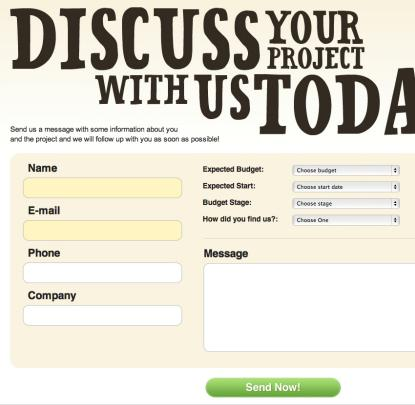button: (205, 377, 341, 397)
field: (22, 175, 182, 198), (23, 218, 183, 241), (22, 261, 182, 284), (23, 303, 183, 325), (292, 164, 399, 176), (292, 180, 399, 192), (292, 197, 399, 209), (292, 213, 399, 225)
field_with_label: (20, 247, 183, 286), (21, 205, 186, 243), (21, 289, 185, 327), (21, 163, 184, 200), (201, 162, 402, 178), (201, 178, 401, 194), (202, 210, 401, 226), (201, 195, 400, 210)
